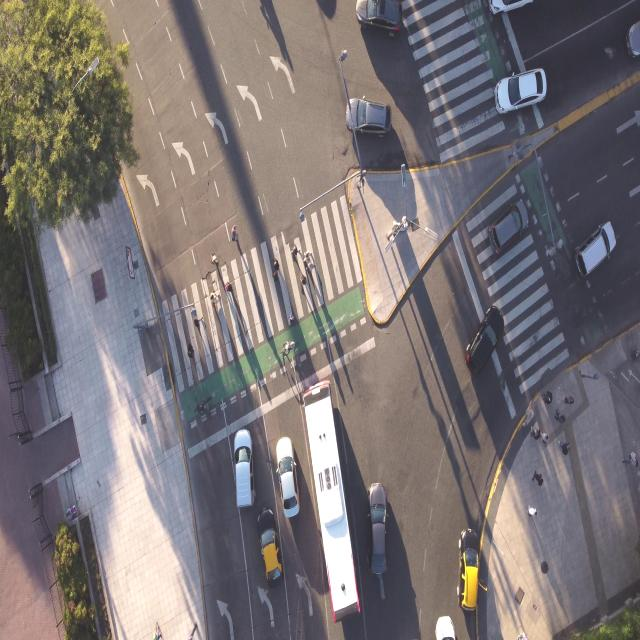Bus: (302, 378, 361, 624)
Car: (465, 305, 505, 376), (494, 67, 548, 116), (575, 220, 617, 282), (488, 197, 530, 257), (257, 507, 284, 590), (366, 481, 389, 578), (275, 435, 301, 520), (346, 95, 392, 138), (458, 528, 480, 614), (234, 428, 256, 509), (356, 0, 402, 38), (489, 0, 532, 17), (625, 22, 640, 64), (435, 616, 455, 640)
